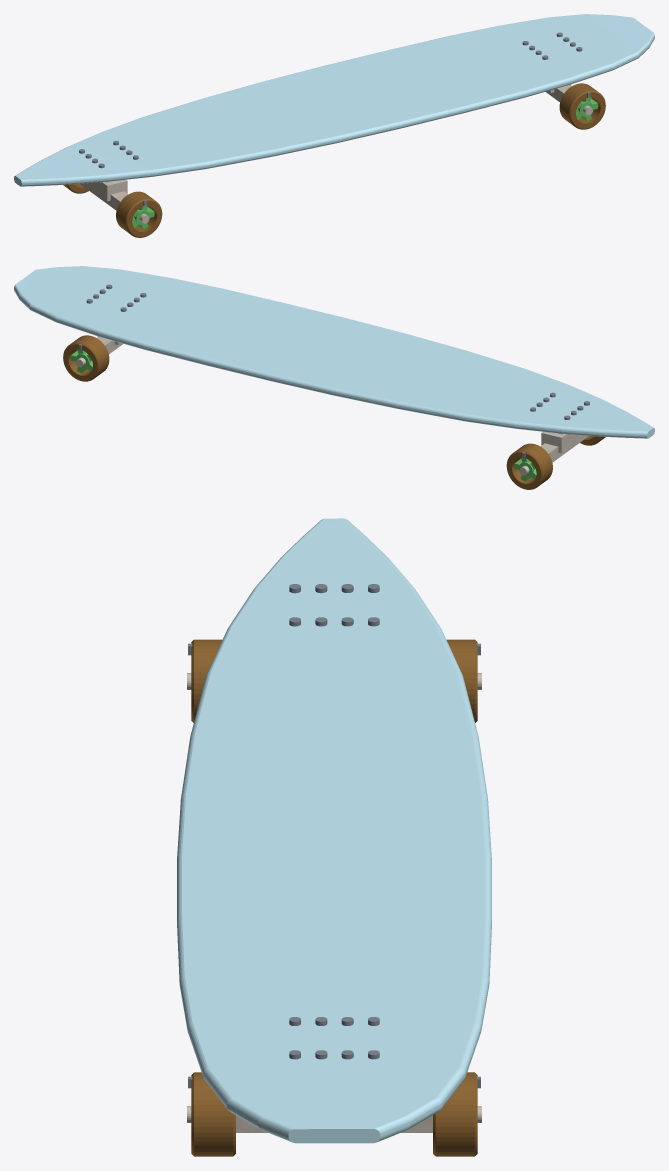
Rendered from Sports_Skateboard__0006.glb.
3 views of the same model, one above another, from view 1: azimuth 30°, elevation 25°; view 2: azimuth 150°, elevation 25°; view 3: azimuth 270°, elevation 25° (orthographic). The views are drawn at different scales.
Visible parts, largest first — view 1: deck::deck_board, front_wheel_0::urethane_ring, rear_wheel_0::urethane_ring, rear_hanger::hanger; view 2: deck::deck_board, front_wheel_1::urethane_ring, rear_wheel_1::urethane_ring, rear_hanger::hanger; view 3: deck::deck_board, front_wheel_0::urethane_ring, front_wheel_1::urethane_ring, rear_wheel_0::urethane_ring, rear_wheel_1::urethane_ring.
Part boxes in pixels (bbox=[...]): deck::deck_board: bbox=[14, 14, 654, 186]; front_wheel_0::urethane_ring: bbox=[559, 83, 605, 129]; rear_wheel_0::urethane_ring: bbox=[116, 191, 162, 237]; rear_hanger::hanger: bbox=[80, 179, 149, 223]; deck::deck_board: bbox=[14, 266, 654, 438]; front_wheel_1::urethane_ring: bbox=[63, 335, 109, 381]; rear_wheel_1::urethane_ring: bbox=[506, 443, 552, 489]; rear_hanger::hanger: bbox=[519, 431, 588, 475]; deck::deck_board: bbox=[177, 518, 491, 1143]; front_wheel_0::urethane_ring: bbox=[191, 1072, 235, 1156]; front_wheel_1::urethane_ring: bbox=[433, 1072, 477, 1156]; rear_wheel_0::urethane_ring: bbox=[191, 639, 222, 722]; rear_wheel_1::urethane_ring: bbox=[446, 639, 477, 722].
Bounding box in the file's own units: 1.1 × 0.098 × 0.24.
5 materials, 3 textured.
